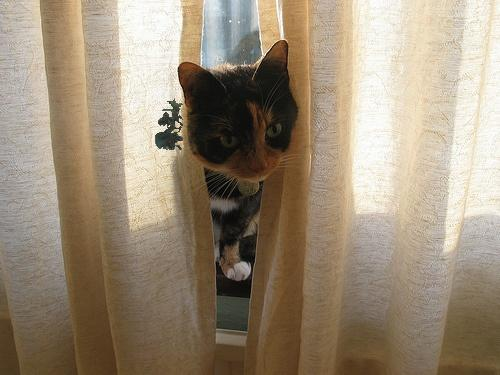tampered: (156, 99, 183, 150)
